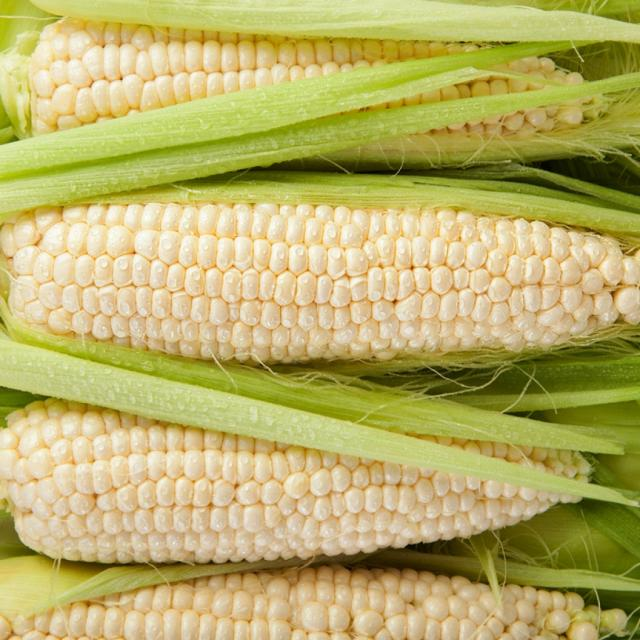corn: (0, 161, 640, 420), (0, 364, 623, 567), (1, 1, 640, 179)
